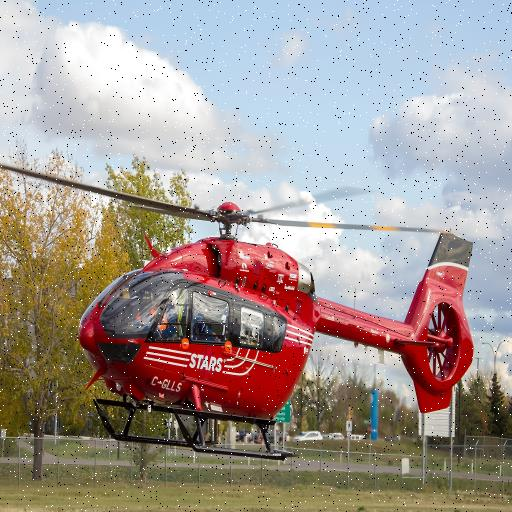helicopter: (4, 162, 489, 463)
